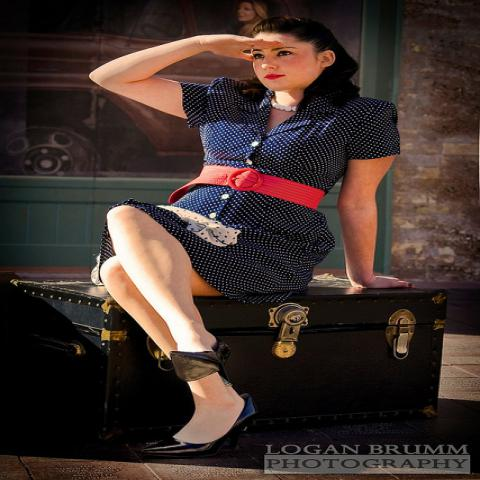car: (4, 74, 206, 266)
